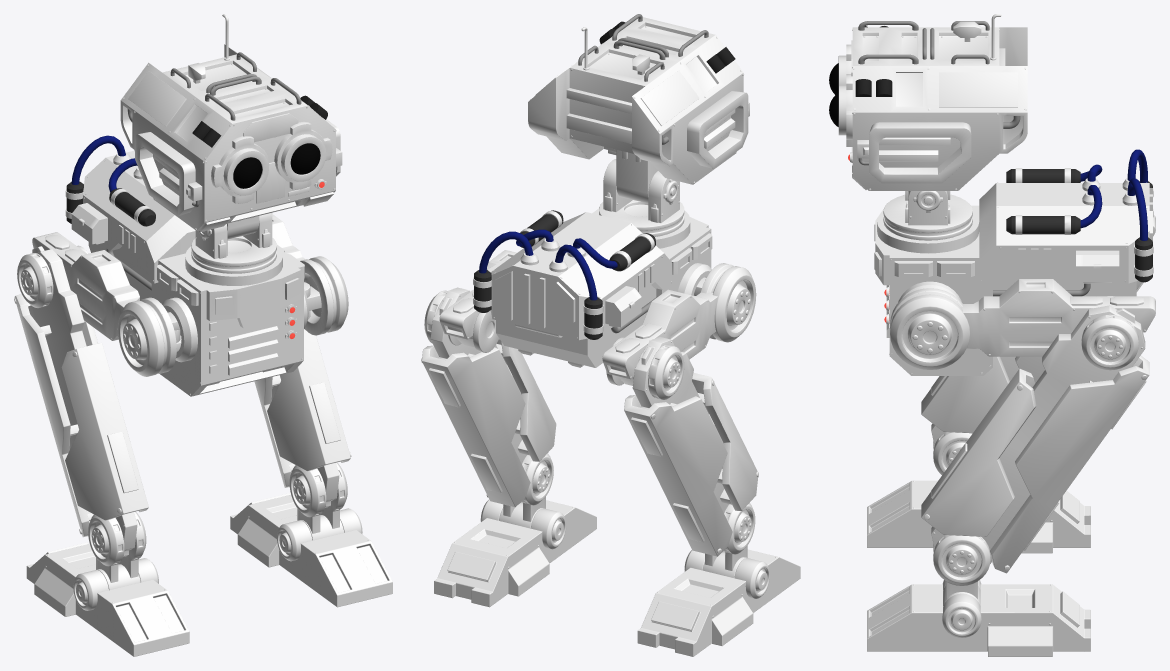
3 views of the same model, side by side, from view 1: azimuth 30°, elevation 25°; view 2: azimuth 150°, elevation 25°; view 3: azimuth 270°, elevation 25° (orthographic). The views are drawn at different scales.
Visible parts, largest first — view 1: Head, Body, Lower Leg Left, Foot Left, Fool Right, Upper Leg Left, Lower Leg Right, Neck, Upper Leg Right, Ankle Left, Ankle Right; view 2: Head, Body, Lower Leg Left, Lower Leg Right, Foot Left, Fool Right, Upper Leg Left, Neck, Ankle Right, Ankle Left, Upper Leg Right; view 3: Head, Body, Lower Leg Right, Fool Right, Upper Leg Right, Foot Left, Lower Leg Left, Neck, Ankle Right, Ankle Left.
Boxes of the visible parts, <box> form: Head: <box>120,14,342,239</box>; Body: <box>65,135,308,396</box>; Lower Leg Left: <box>14,245,148,556</box>; Foot Left: <box>26,542,189,656</box>; Fool Right: <box>230,493,392,607</box>; Upper Leg Left: <box>32,232,176,376</box>; Lower Leg Right: <box>254,213,351,507</box>; Neck: <box>191,213,276,273</box>; Upper Leg Right: <box>272,214,348,335</box>; Ankle Left: <box>88,511,146,590</box>; Ankle Right: <box>289,462,347,540</box>; Head: <box>528,14,749,203</box>; Body: <box>473,208,712,367</box>; Lower Leg Left: <box>606,337,758,556</box>; Lower Leg Right: <box>421,287,556,507</box>; Foot Left: <box>637,549,800,656</box>; Fool Right: <box>434,499,596,607</box>; Upper Leg Left: <box>602,263,756,385</box>; Neck: <box>599,159,684,236</box>; Ankle Right: <box>499,453,553,528</box>; Ankle Left: <box>702,503,755,577</box>; Upper Leg Right: <box>439,250,516,347</box>; Head: <box>829,14,1027,191</box>; Body: <box>874,149,1153,375</box>; Lower Leg Right: <box>921,296,1149,573</box>; Fool Right: <box>867,580,1090,656</box>; Upper Leg Right: <box>890,279,1155,369</box>; Foot Left: <box>867,480,1090,553</box>; Lower Leg Left: <box>921,280,1143,445</box>; Neck: <box>883,191,972,240</box>; Ankle Right: <box>933,535,990,605</box>; Ankle Left: <box>933,432,972,474</box>.
Size of the model in its own units: 2.52 by 4.8 by 2.43.
